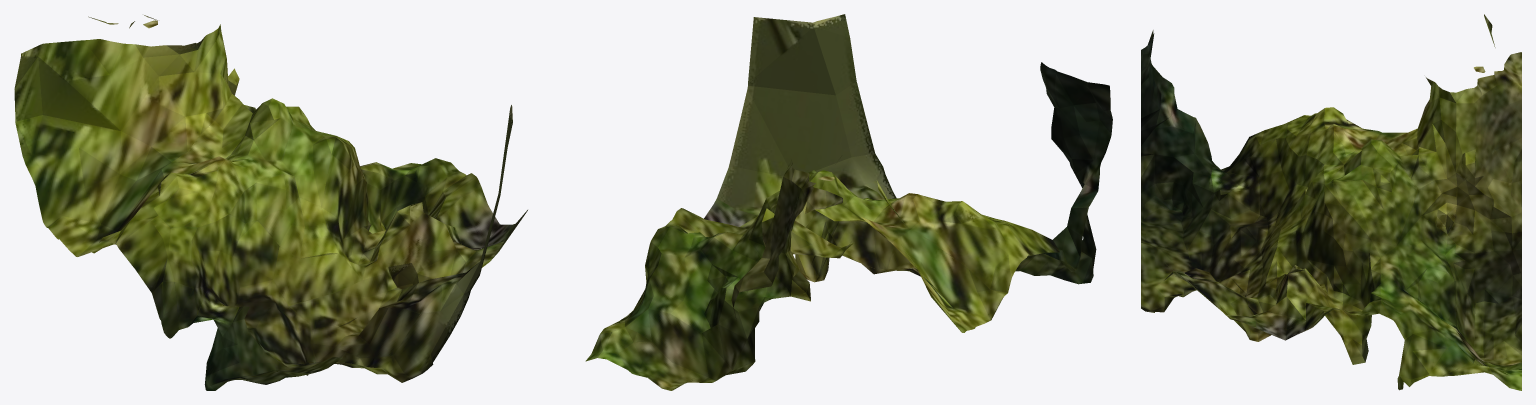
3 renders of one model, left to right at view 1: azimuth 30°, elevation 25°; view 2: azimuth 150°, elevation 25°; view 3: azimuth 270°, elevation 25°, orthographic. The views are drawn at different scales.
Size of the model in its own units: 1.67 by 1.11 by 1.67.
4 materials, 4 textured.
